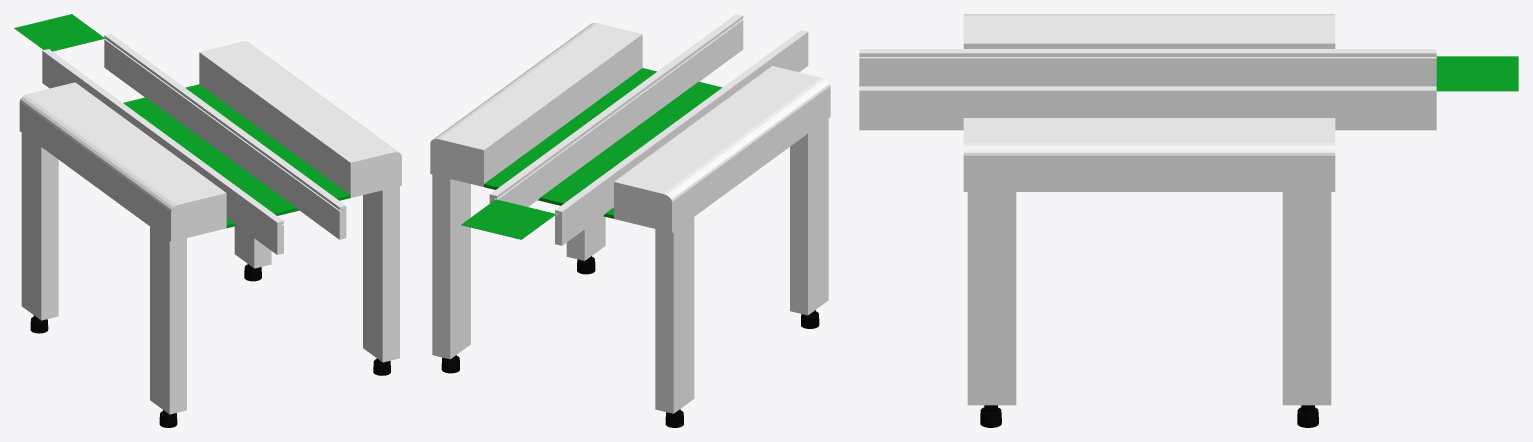
Rendered from conveyor-pcbloader.glb.
The picture shows the model from 3 angles, left to right: view 1: azimuth 30°, elevation 25°; view 2: azimuth 150°, elevation 25°; view 3: azimuth 270°, elevation 25°; orthographic projection. The views are drawn at different scales.
Visible parts, largest first — view 1: Body, Foot, Lside, Rside, PcbPanel; view 2: Body, Foot, Lside, Rside, PcbPanel; view 3: Body, Foot, Rside, Lside, PcbPanel.
Boxes of the visible parts, x1,y1,x2,y2 form: Body: (19, 41, 401, 241); Foot: (21, 133, 399, 427); Lside: (104, 34, 346, 239); Rside: (42, 49, 283, 254); PcbPanel: (14, 14, 104, 51); Body: (430, 23, 830, 232); Foot: (432, 119, 828, 427); Lside: (489, 14, 743, 206); Rside: (555, 30, 808, 245); PcbPanel: (461, 199, 556, 239); Body: (963, 14, 1335, 191); Foot: (967, 192, 1331, 427); Rside: (859, 49, 1436, 86); Lside: (859, 86, 1436, 130); PcbPanel: (1436, 56, 1518, 91).
Bounding box in the file's own units: 3.29 × 3.11 × 6.64.
